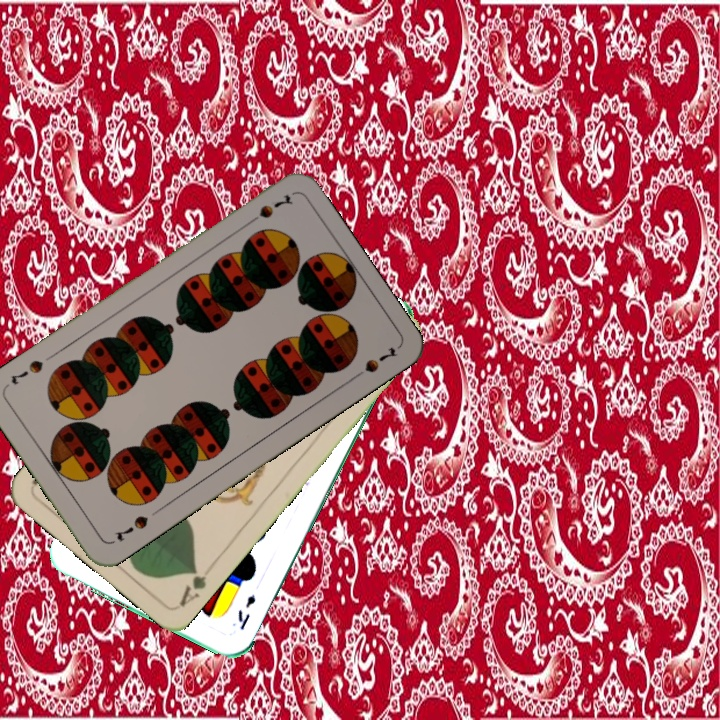EK: (233, 589, 259, 632)
GA: (174, 563, 210, 610)
S7: (242, 190, 296, 228), (111, 511, 151, 546)
